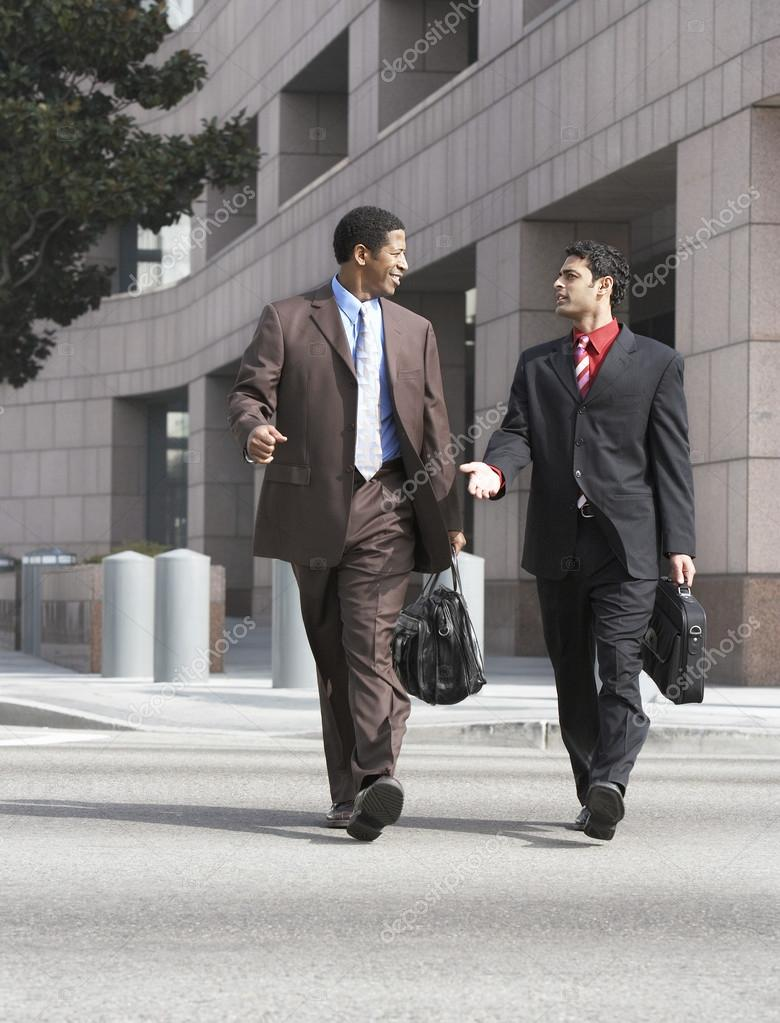Person: (463, 234, 728, 870), (229, 202, 468, 862)
